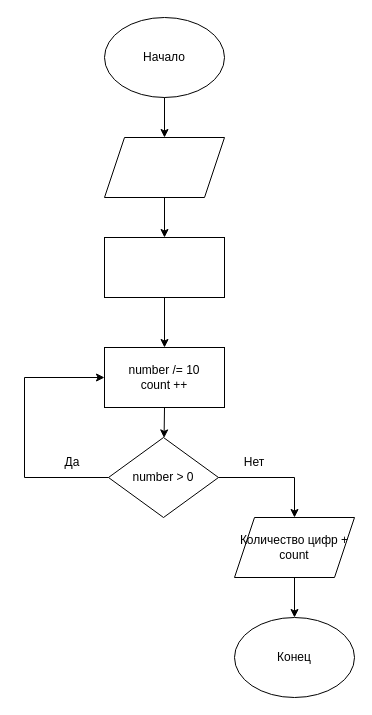
Image size: 372x715. Some labels were removed from this diagram. The shapes that lost their labels are listed below. From the top down, each one's box as (x1, y1, x2, y2) in pixels, then its label:
(104, 136, 224, 198): Ввод: number
(104, 236, 224, 298): count = 0
